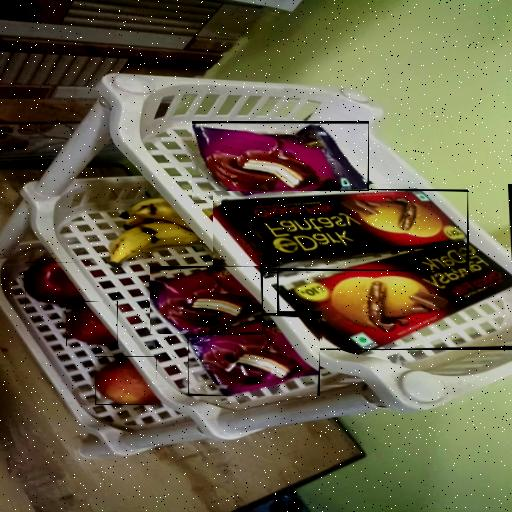Apple: (95, 356, 157, 405), (25, 262, 83, 306), (66, 301, 118, 346)
Choco Fills: (277, 184, 512, 350), (213, 191, 467, 269)
Choco Pie: (192, 121, 369, 200), (188, 313, 320, 396), (150, 267, 263, 334)
